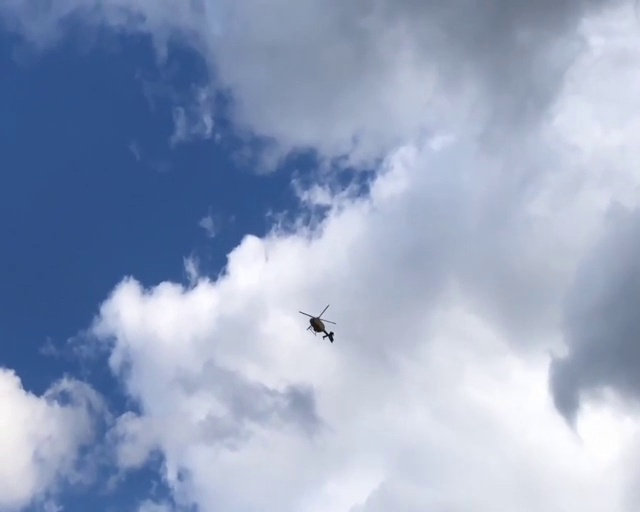HELICOPTER: (298, 304, 337, 342)
